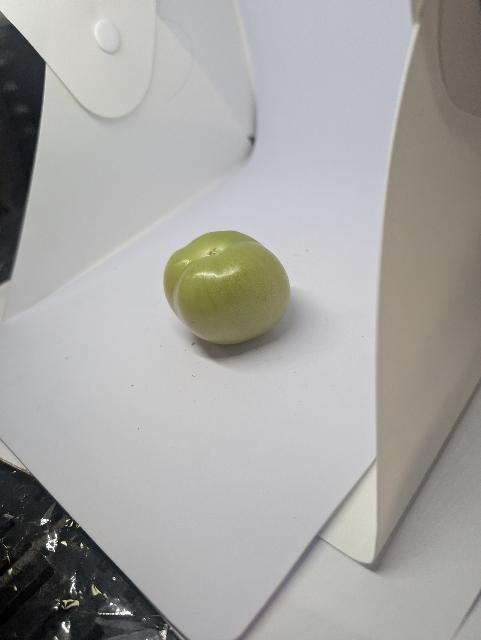green: (162, 230, 294, 345)
